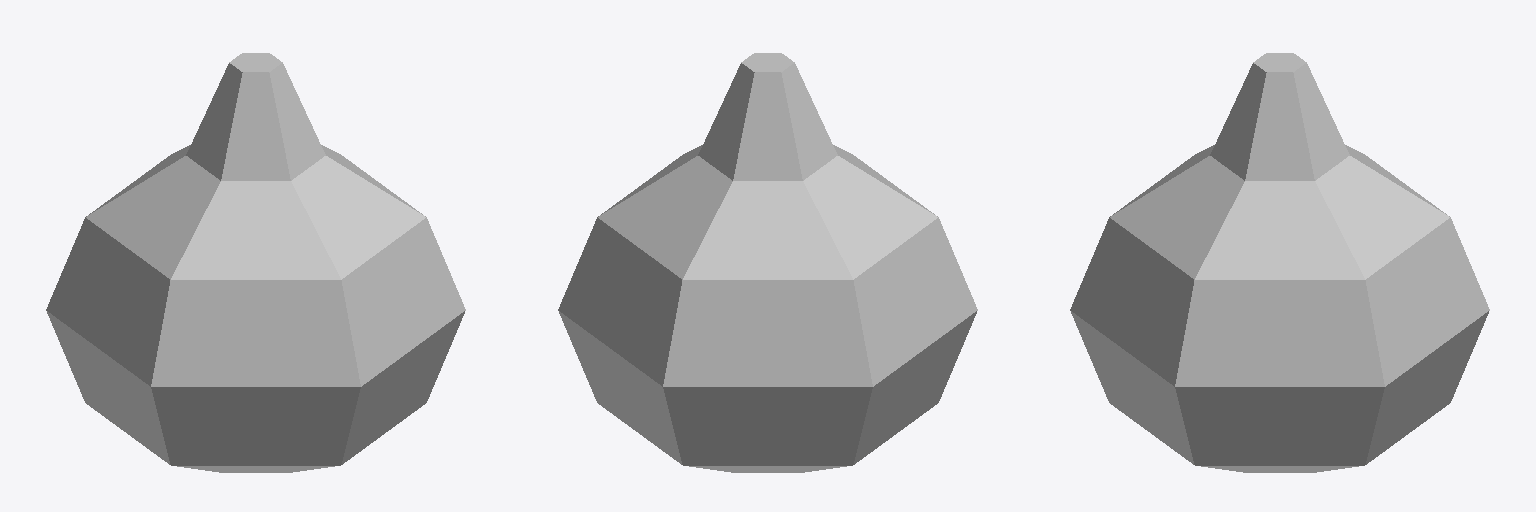
The model's file is onion.obj.
3 views of the same model, side by side, from view 1: azimuth 30°, elevation 25°; view 2: azimuth 150°, elevation 25°; view 3: azimuth 270°, elevation 25° (orthographic).
Visible parts, largest first — view 1: onion; view 2: onion; view 3: onion.
Boxes of the visible parts, x1=… form: onion: x1=46, y1=53, x2=465, y2=472; onion: x1=558, y1=53, x2=977, y2=472; onion: x1=1070, y1=53, x2=1489, y2=472.
Size of the model in its own units: 0.213 by 0.25 by 0.246.